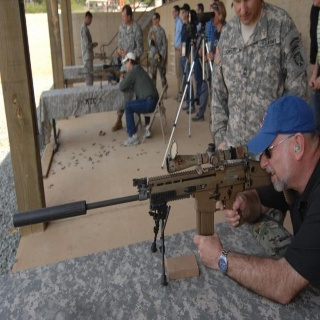rifle: (12, 143, 281, 288)
